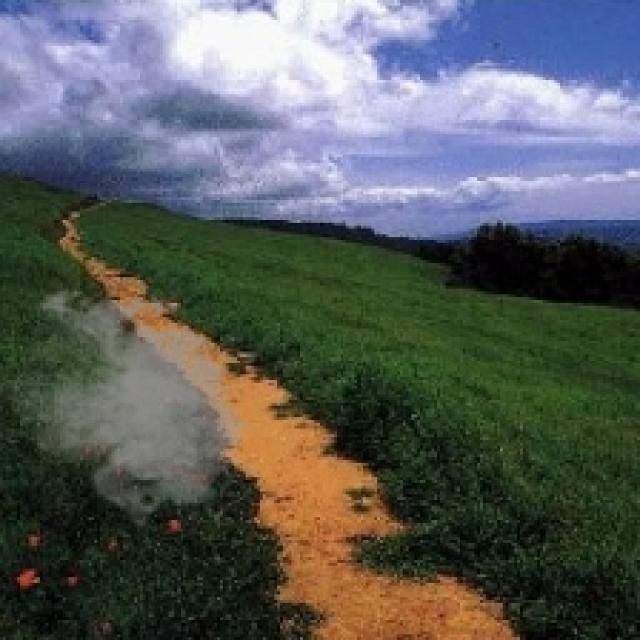Smoke: (2, 283, 258, 532)
